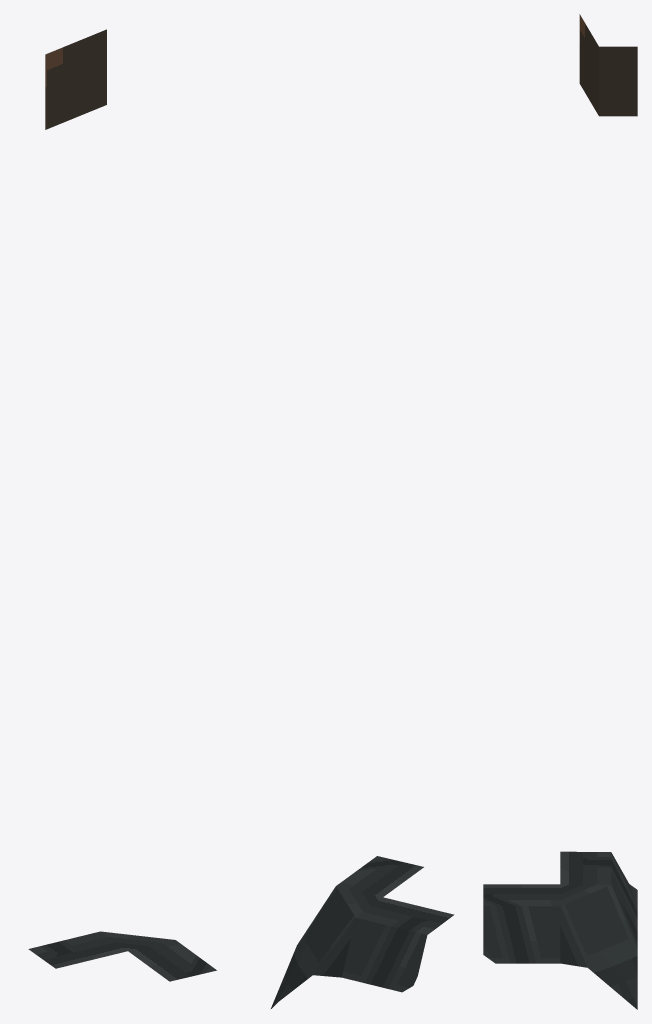
The picture shows the model from 3 angles, left to right: view 1: azimuth 30°, elevation 25°; view 2: azimuth 150°, elevation 25°; view 3: azimuth 270°, elevation 25°; orthographic projection. The views are drawn at different scales.
Bounding box in the file's own units: 1 × 6.67 × 1.
Materials: 2 (2 with a texture image).
